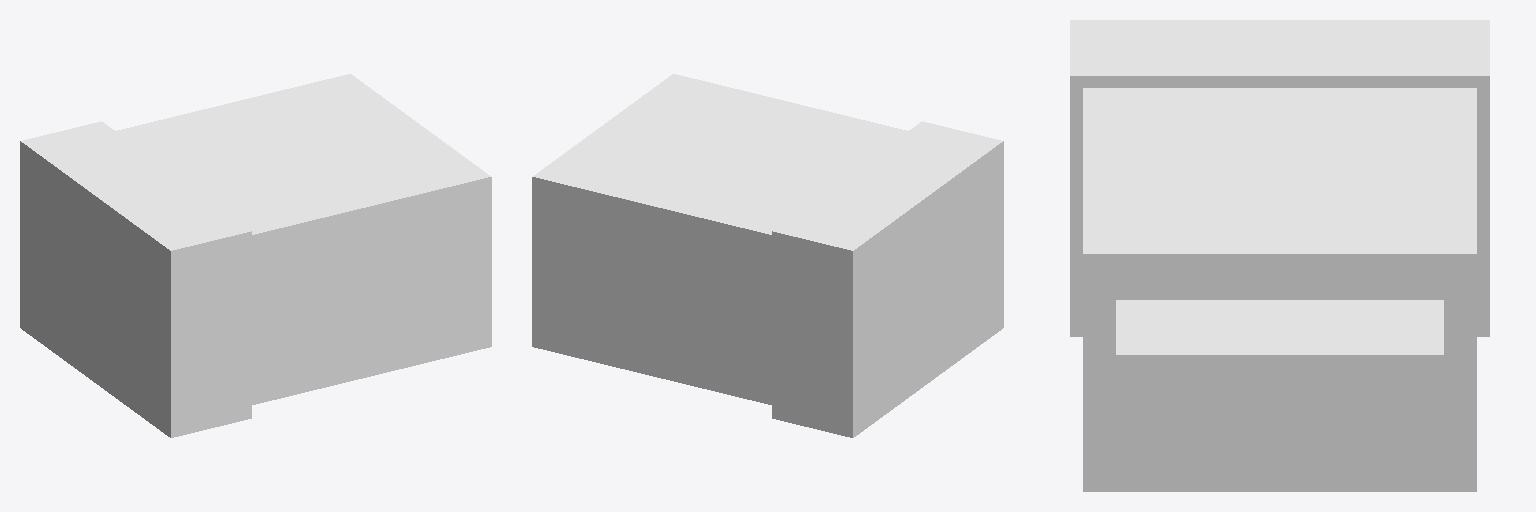
URDF robot description (urdf_robot):
<?xml version="1.0"?>
<robot name="urdf_robot">
  <link name="base_link">
    <contact>
      <rolling_friction value="0.0" />
      <spinning_friction value="0.0" />
      <lateral_friction value="10" />
      <restitution value="0.1" />
      <damping value="100" />
      <stiffness value="10000" />
    </contact>
    <inertial>
      <origin rpy="0 0 0" xyz="0 0 0" />
      <mass value="1.0" />
      <inertia ixx="1" ixy="0" ixz="0" iyy="1" iyz="0" izz="1" />
    </inertial>
    <visual>
      <origin rpy="0 0 0" xyz="0 0 0" />
      <geometry>
        <mesh filename="usb.obj" scale="1 1 1" />
      </geometry>
      <material name="white">
        <color rgba="1 1 1 1" />
      </material>
    </visual>
    <collision>
      <origin rpy="0 0 0" xyz="0 0 0" />
      <geometry>
        <mesh filename="usb.obj" scale="1 1 1" />
      </geometry>
    </collision>
  </link>
</robot>

--- What the picture shows (computed from the rendered views, not written in the file) ---
The picture shows the robot from 3 angles, left to right: view 1: azimuth 30°, elevation 25°; view 2: azimuth 150°, elevation 25°; view 3: azimuth 270°, elevation 25°; orthographic projection.
Robot: urdf_robot — 1 links, 0 joints (none); root link base_link; default pose: all joints at 0.
Links seen in each view (by area): view 1: base_link; view 2: base_link; view 3: base_link.
Link boxes in pixels (<box>): base_link: <box>20,74,491,437</box>; base_link: <box>532,74,1003,437</box>; base_link: <box>1070,20,1489,491</box>.
Bounding box of the posed robot: 0.04 × 0.032 × 0.022 m (x, y, z).
1 mesh visuals loaded from 1 distinct referenced files (1 OBJ).